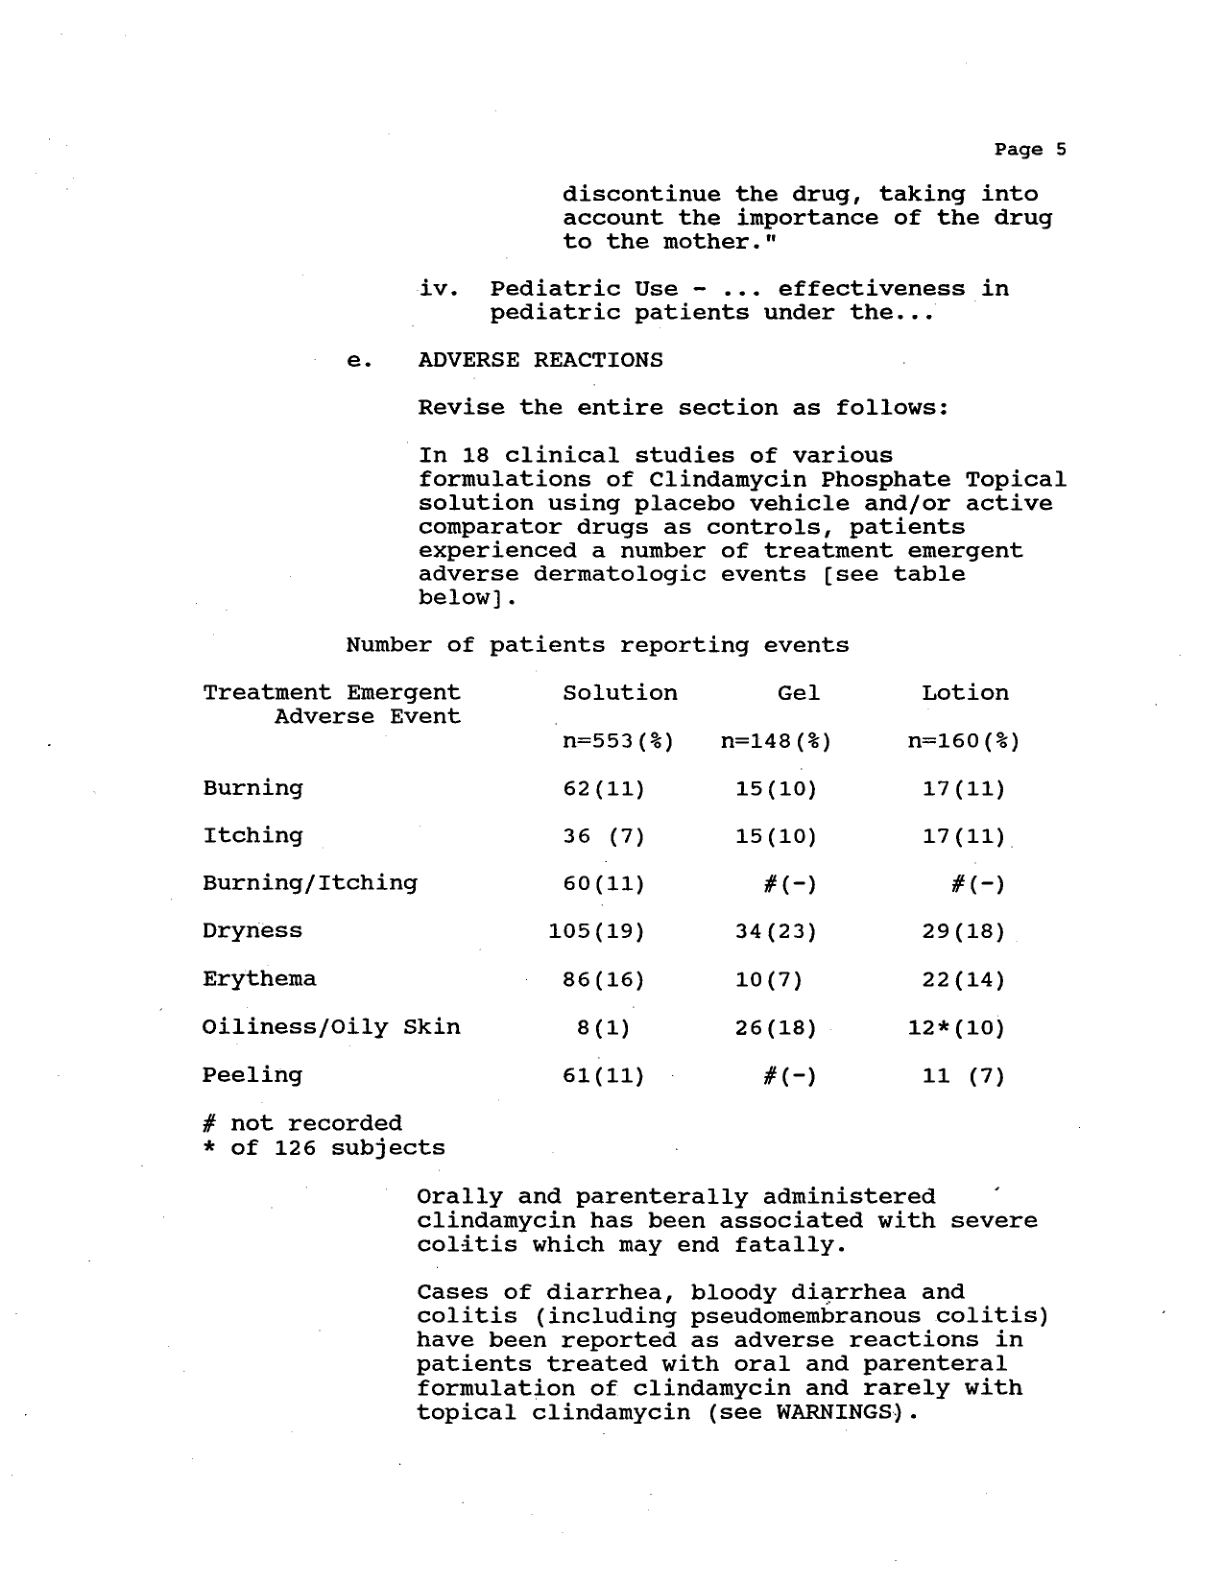nolines: (201, 680, 1021, 1092)
